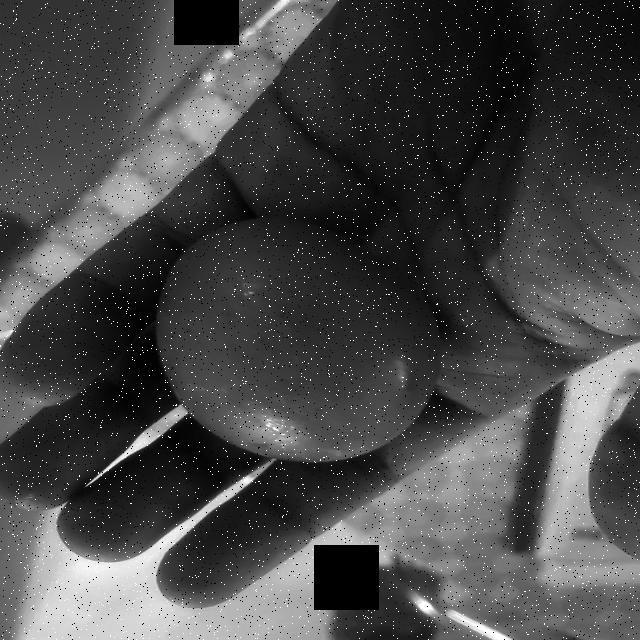egg: (153, 210, 447, 464)
